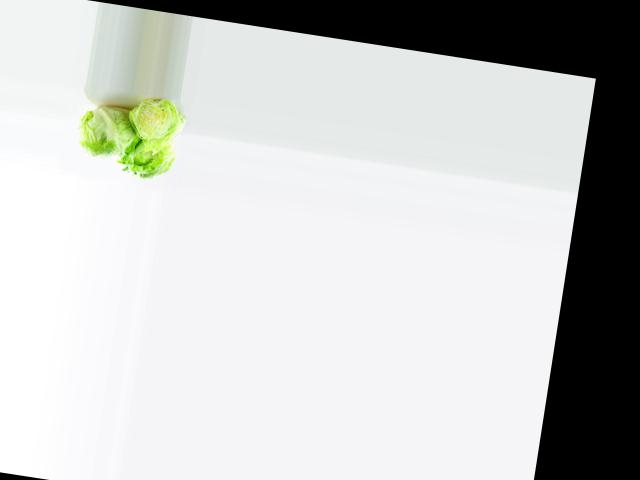lettuce: (112, 130, 179, 187)
